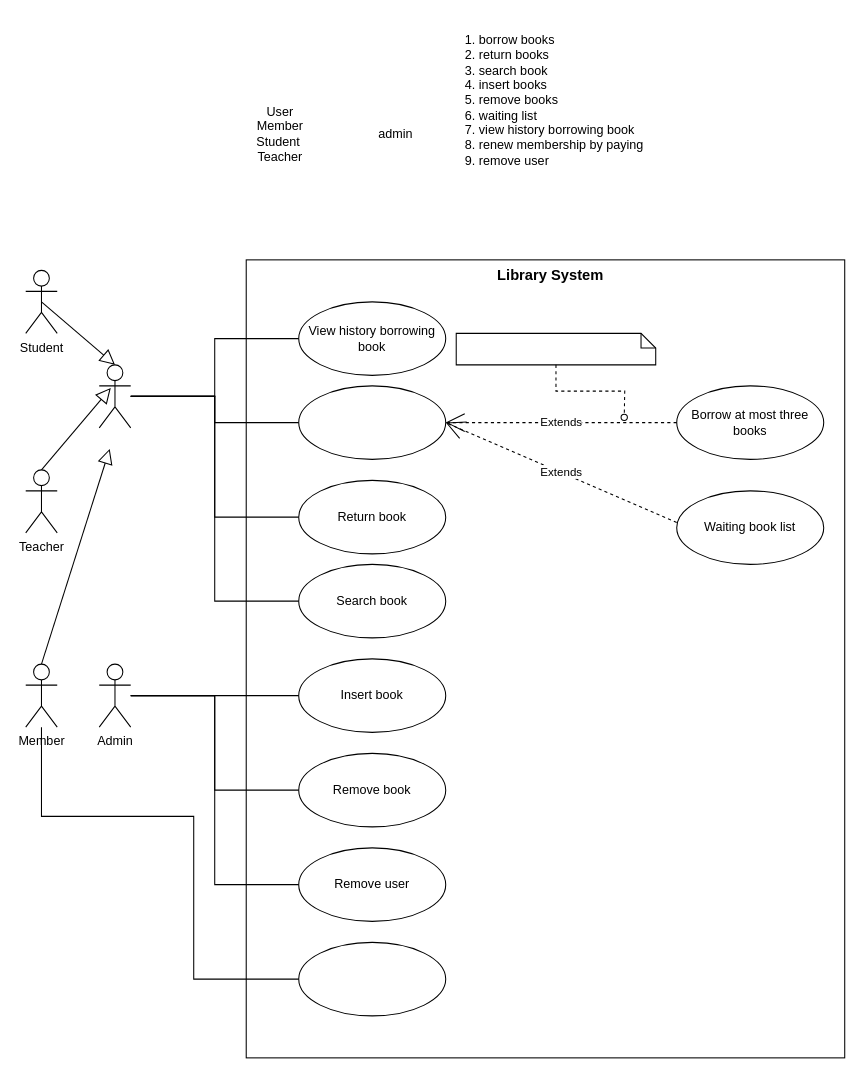
The diagram is 863 pixels wide and 1076 high, and some of its shapes have lost their labels. Here are the shapes that lost their labels. From the top down, the box of each, then its label:
(455, 332, 656, 365): Condition:{All books returned}
(98, 364, 131, 428): User
(298, 385, 446, 459): Borrow book
(298, 941, 446, 1016): Payment
